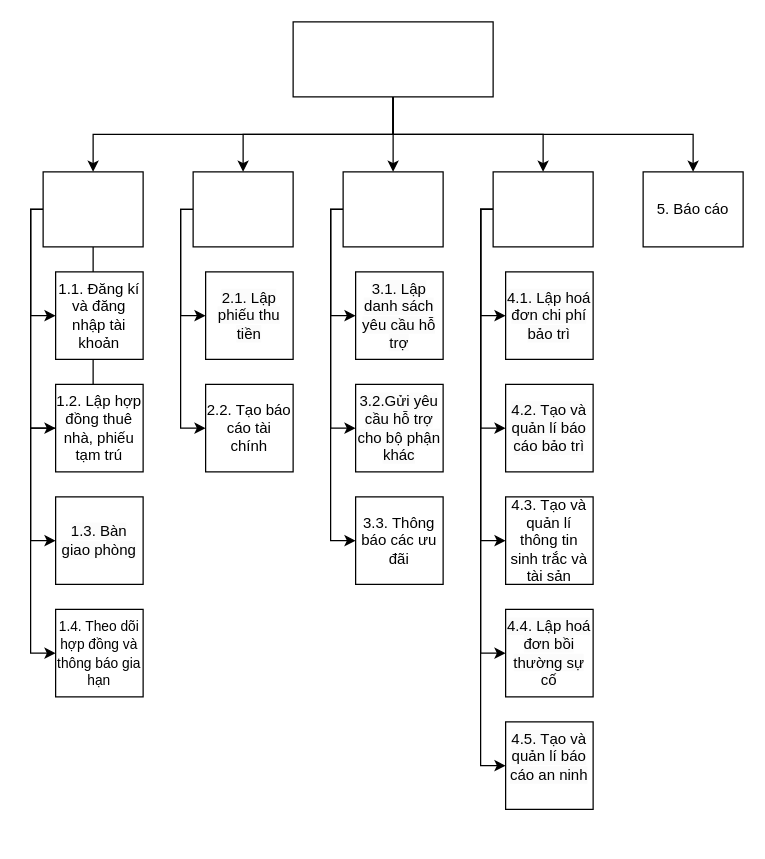
Image size: 765x859. Some labels were removed from this diagram. The shapes that lost their labels are listed below. From the top down, each one's box as (x1, y1, x2, y2) in pixels, then its label:
(292, 21, 493, 97): Hệ thống quản lý nhà trọ và cho thuê phòng
(42, 171, 143, 247): 1. Quản lí thuê nhà
(192, 171, 293, 247): 2. Quản lý tài chính
(342, 171, 443, 247): 3. Quản lý khách hàng
(492, 171, 593, 247): 4. Quản lý tài sản
